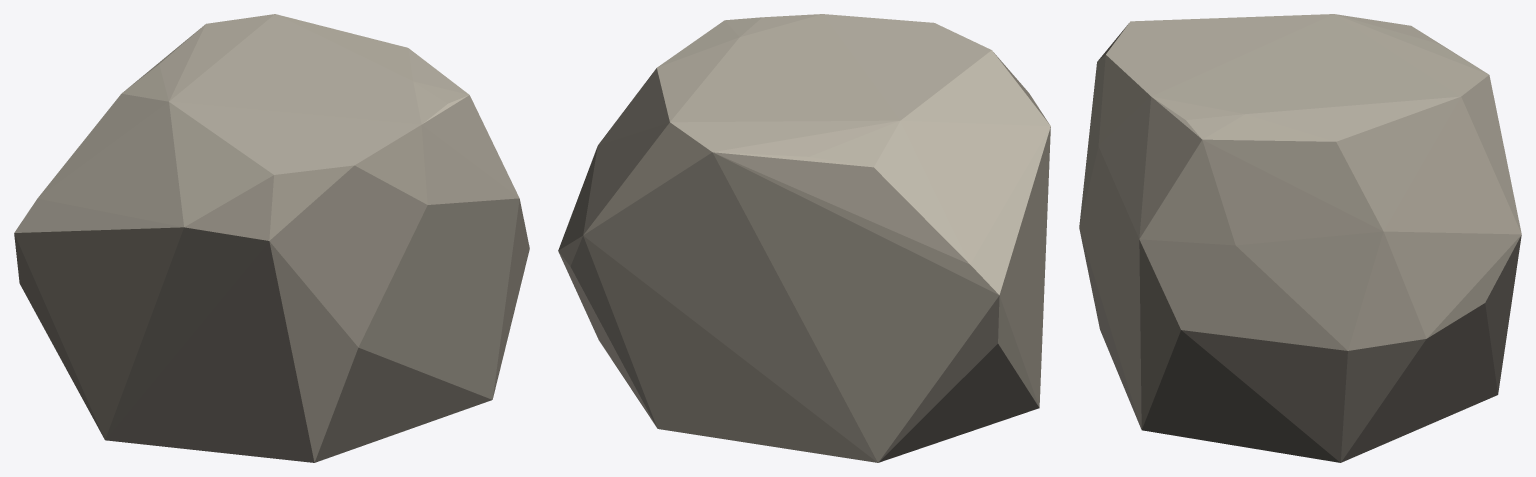
File: rock_boulder.glb
The picture shows the model from 3 angles, left to right: view 1: azimuth 30°, elevation 25°; view 2: azimuth 150°, elevation 25°; view 3: azimuth 270°, elevation 25°; orthographic projection. The views are drawn at different scales.
Parts seen in each view (by area): view 1: LOD0; view 2: LOD0; view 3: LOD0.
Part boxes in pixels (x1,y1,x2,y2): LOD0: (14,14,529,462); LOD0: (558,14,1050,462); LOD0: (1079,14,1521,462).
Bounding box in the file's own units: 2.15 × 1.41 × 1.8.
Materials: 1 (1 with a texture image).
